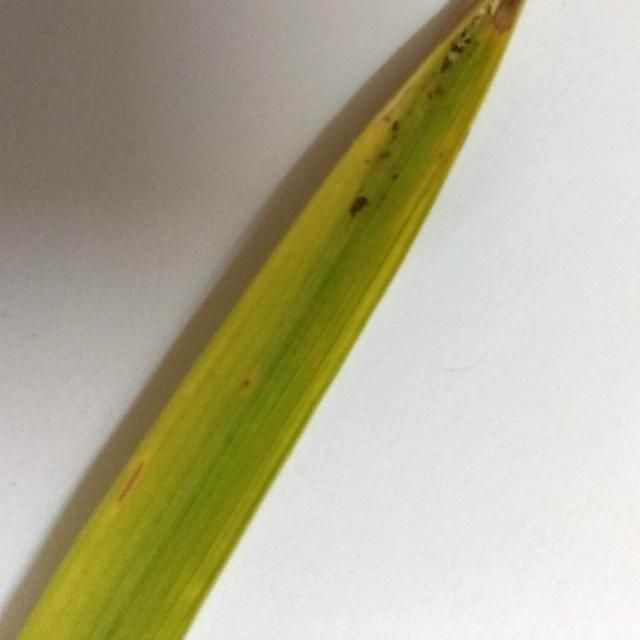Brown spot: (15, 0, 622, 640)
